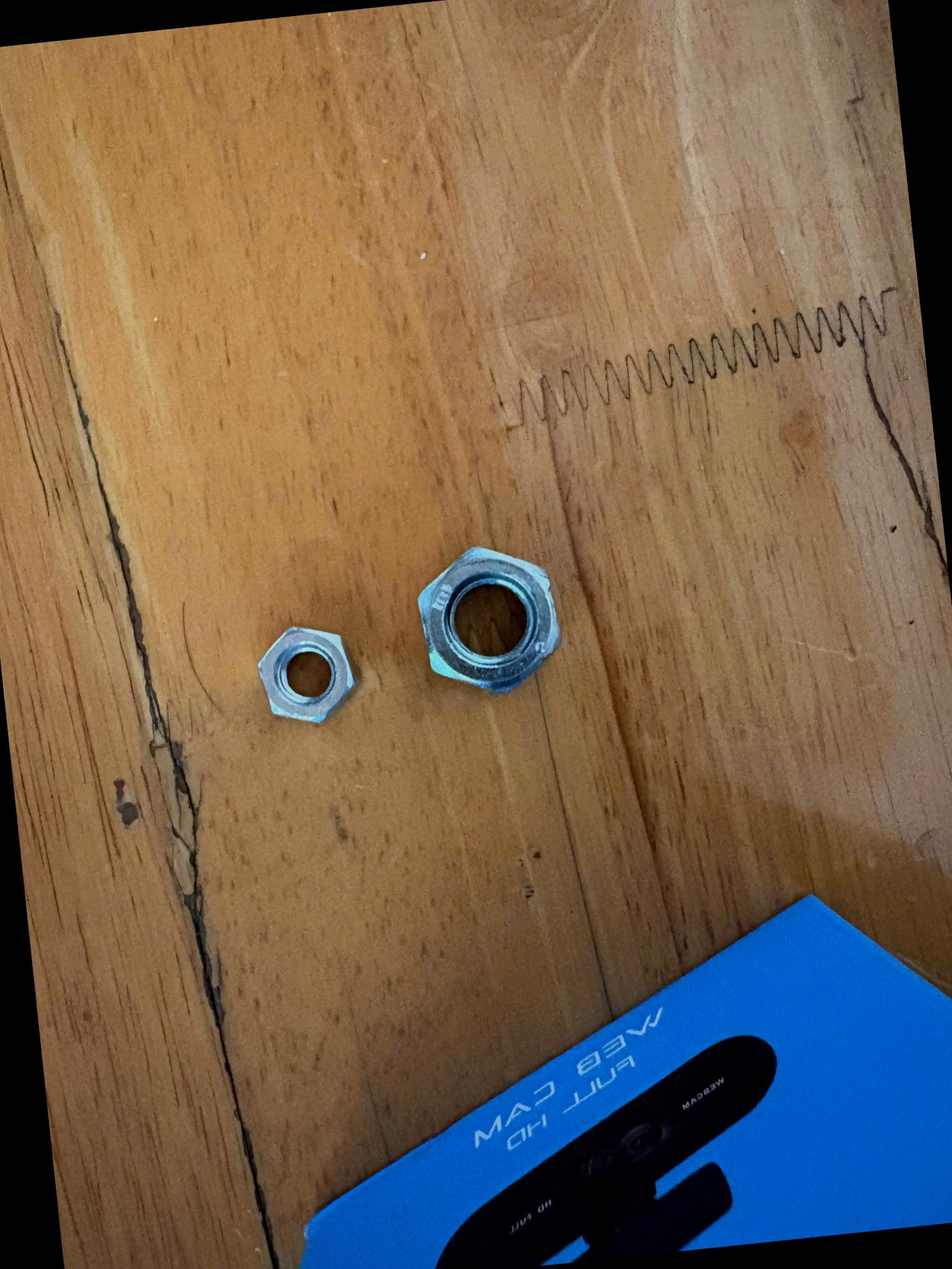nut: (395, 534, 583, 717), (247, 609, 360, 749)
